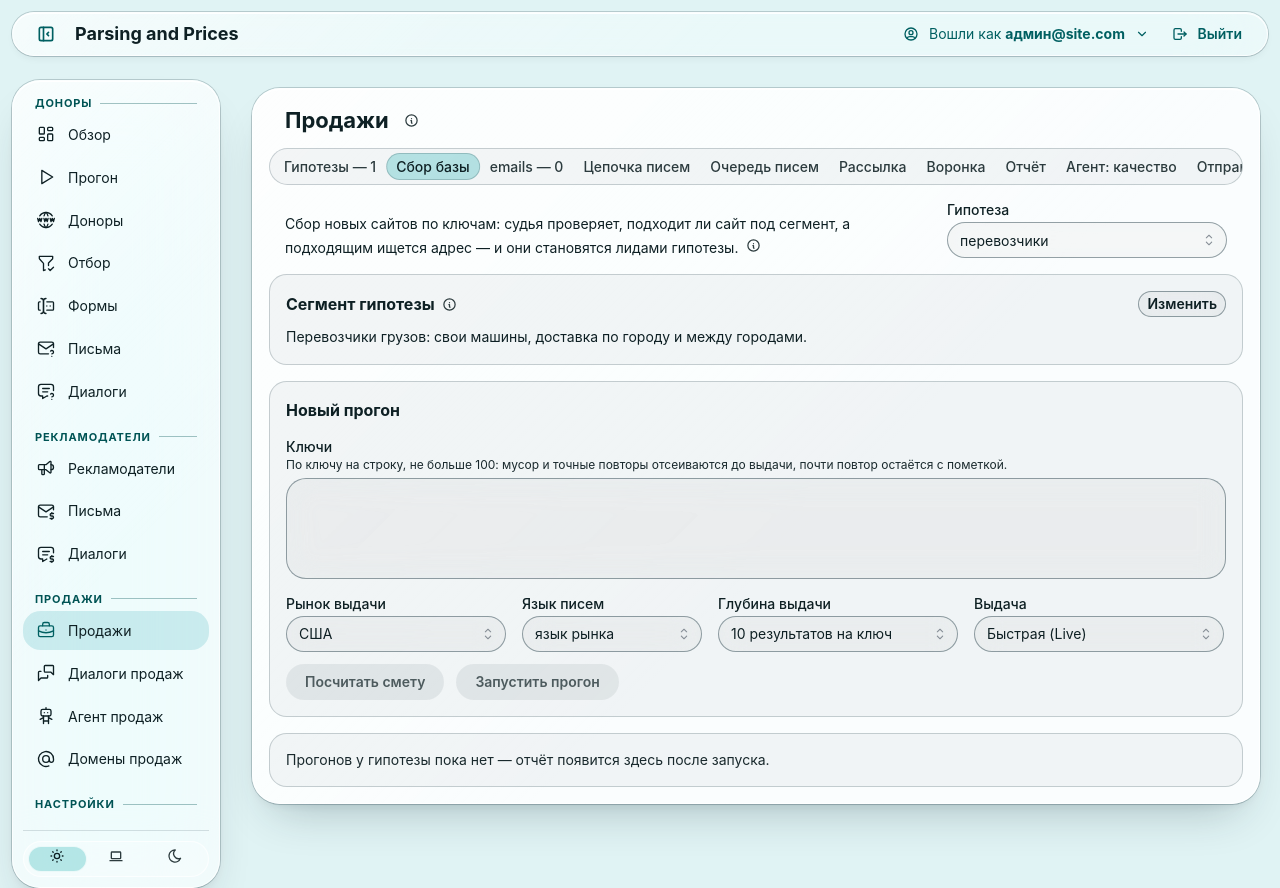
Test: сбор базы: форма прогона и смета › правка описания сегмента снимает смету: посчитанное по прежнему не запустить
Expected: the heading "Сегмент гипотезы" is shown, 286,292 -> 435,316
Click the text box labelled "Ключи": coordinates (756, 528) 286,478 -> 1226,579
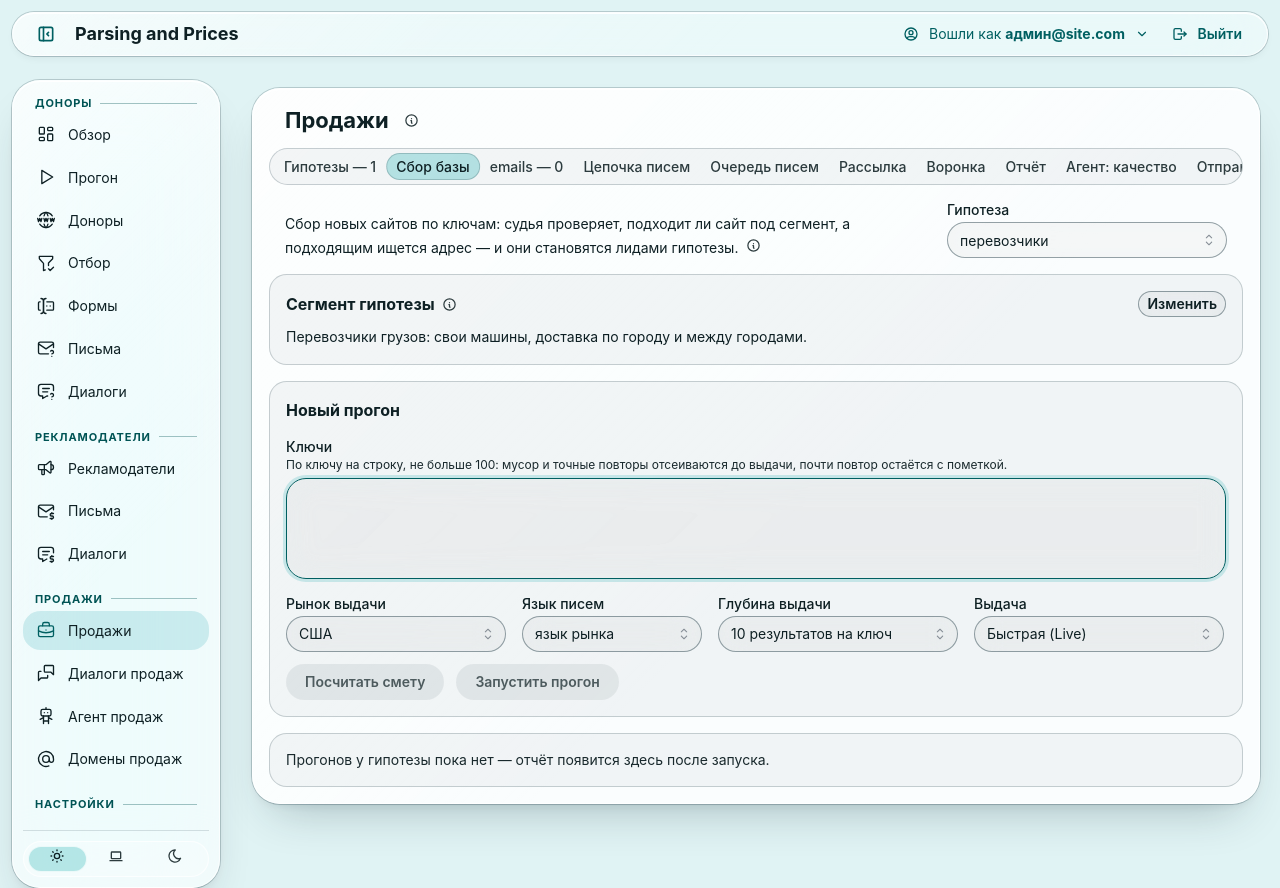
Type keys "доставка грузов"
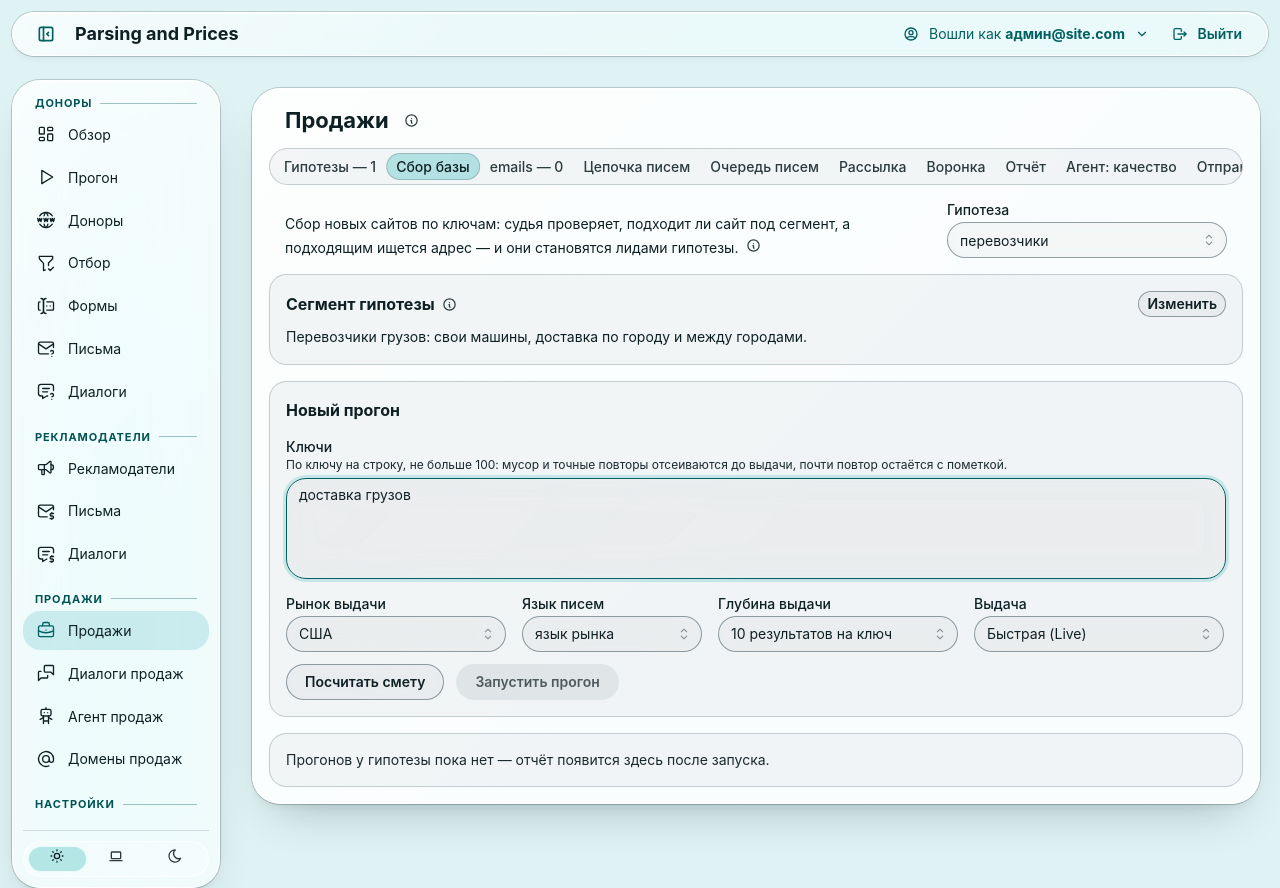
Click the button "Посчитать смету": coordinates (365, 682) 286,664 -> 444,700
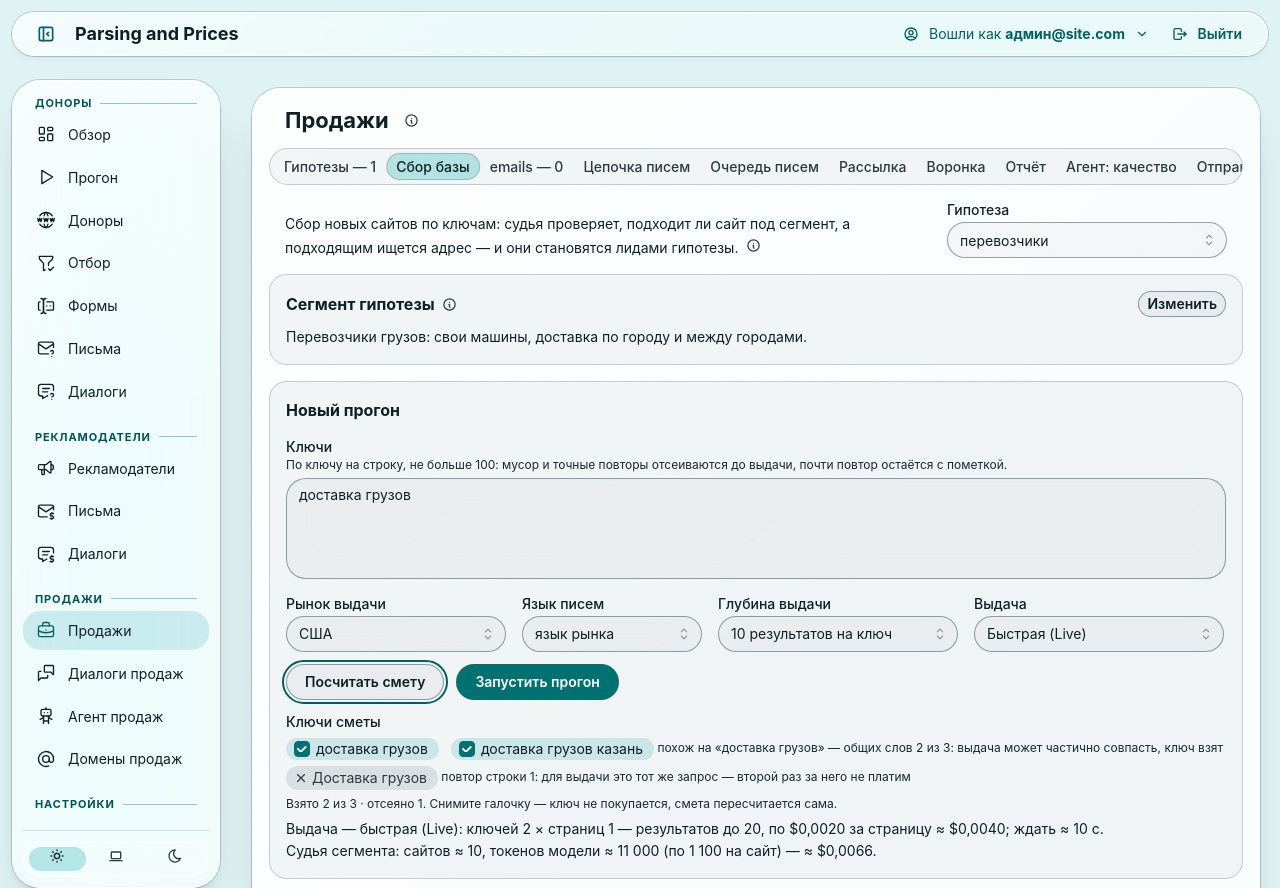
Expected: the text "Судья сегмента: сайтов ≈ 10, токенов модели ≈ 11 000 (по 1 100 на сайт) — ≈ $0,0066." is shown, 286,842 -> 877,859
Expected: the button "Запустить прогон" is enabled, 456,664 -> 619,700
Click the button "Изменить": coordinates (1182, 304) 1138,291 -> 1226,317
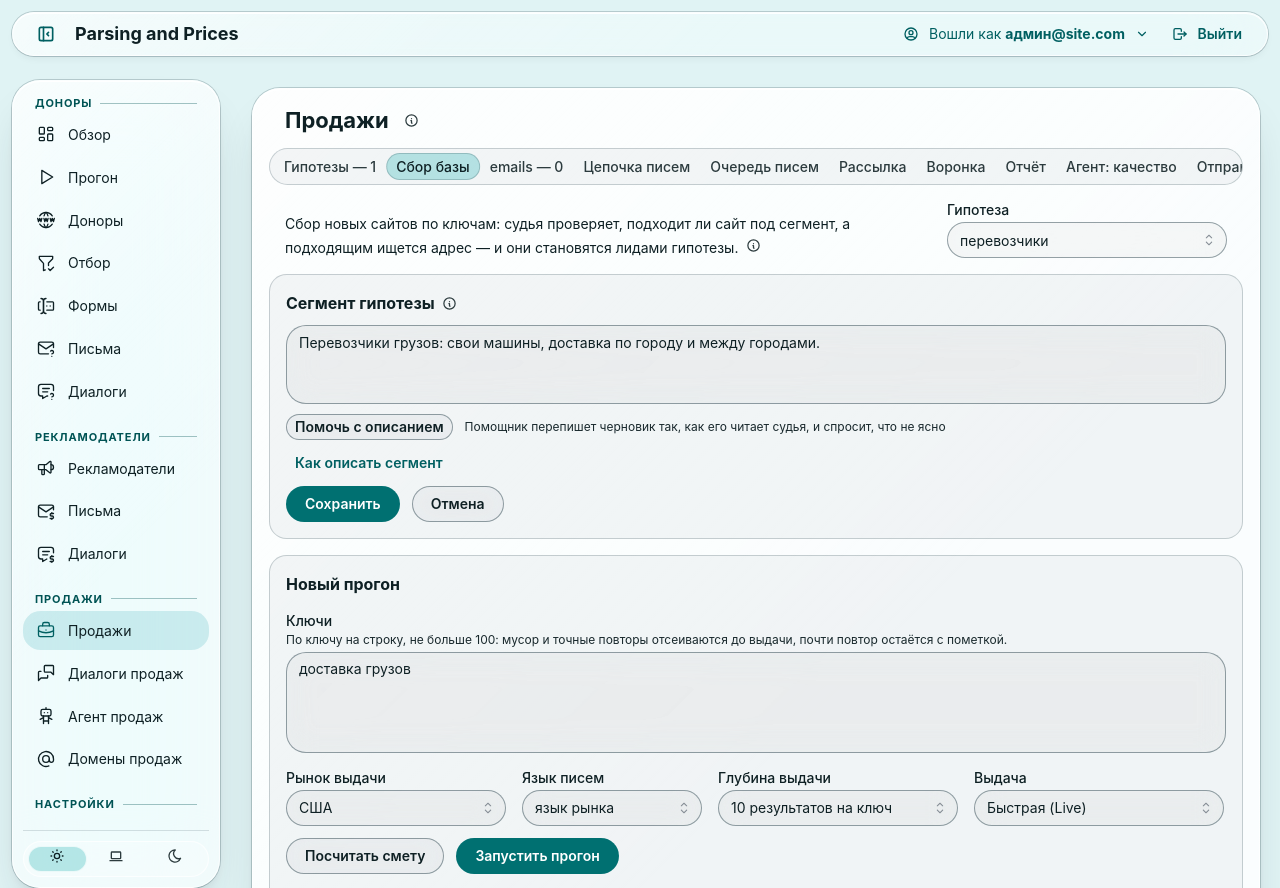
In the text box named "Описание сегмента": coordinates (756, 365) 286,325 -> 1226,404, type " Без экспедиторов."
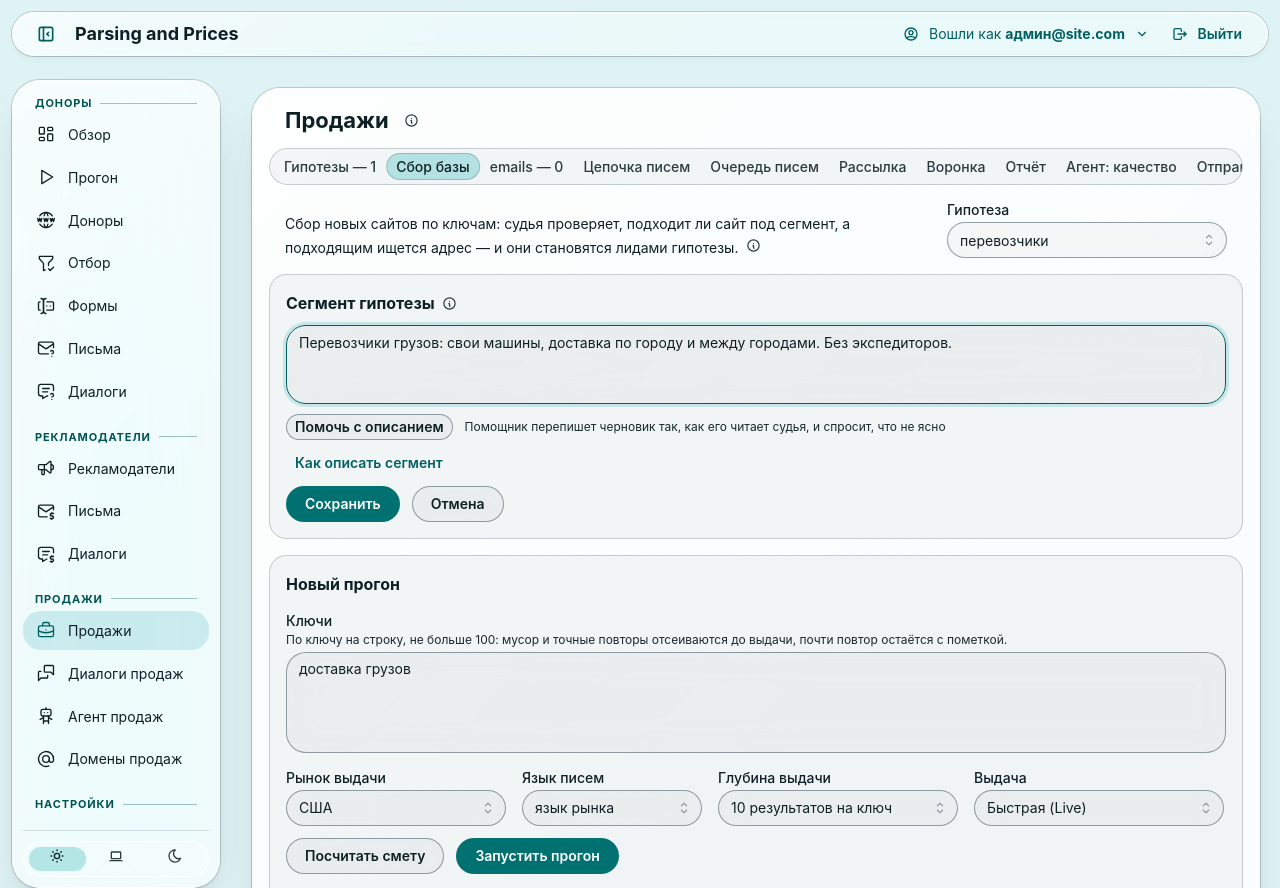
Click the button "Сохранить": coordinates (343, 504) 286,486 -> 400,522
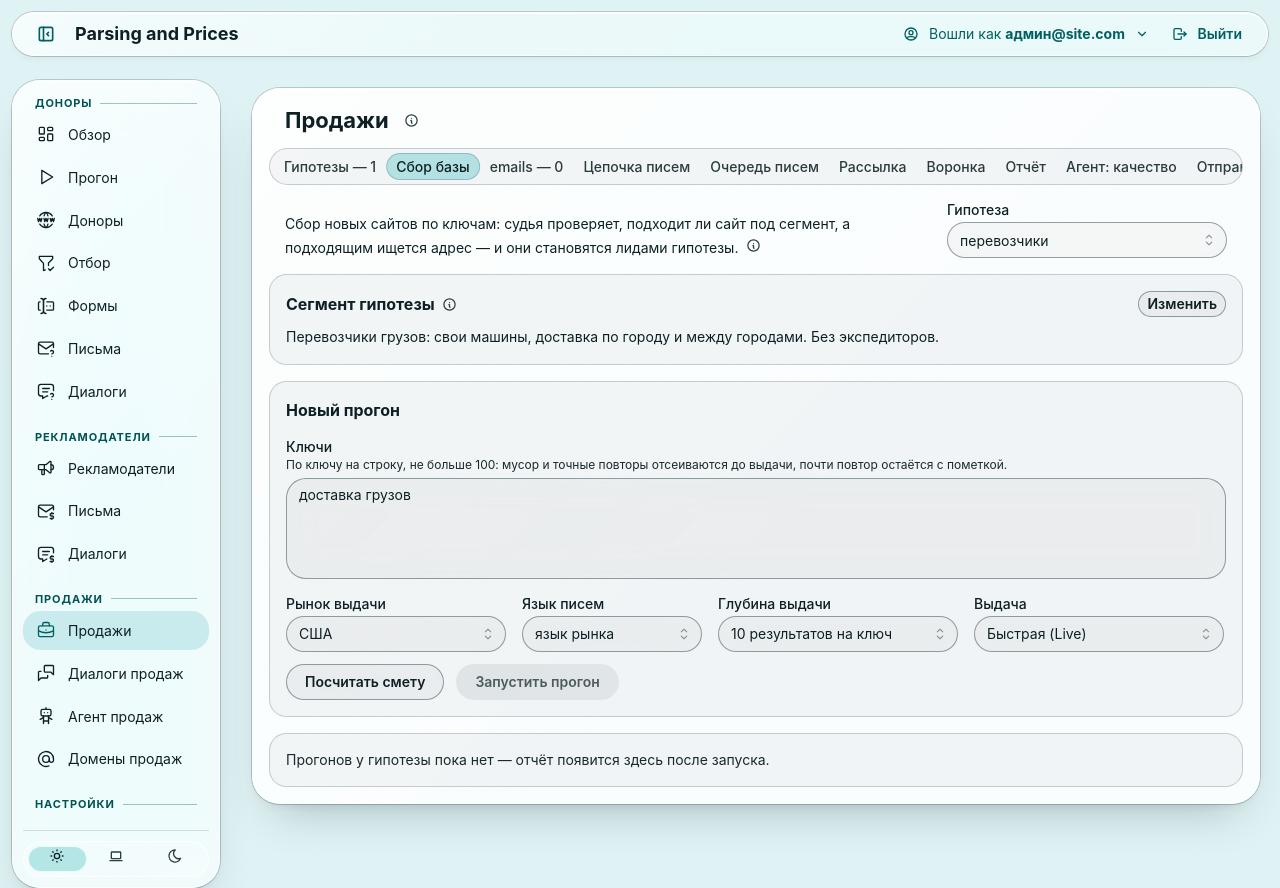
Expected: the button "Запустить прогон" is disabled, 456,664 -> 619,700
